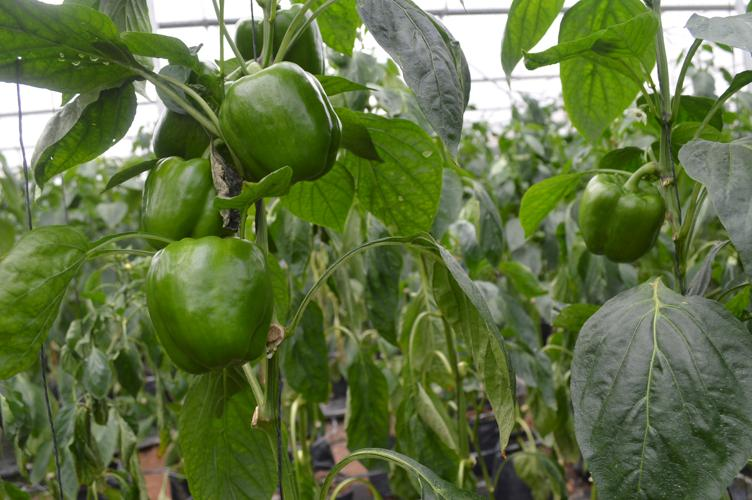BellPepper: (148, 238, 272, 371), (220, 63, 337, 176), (573, 172, 664, 261), (137, 160, 220, 237), (235, 5, 327, 72), (143, 92, 212, 159)
